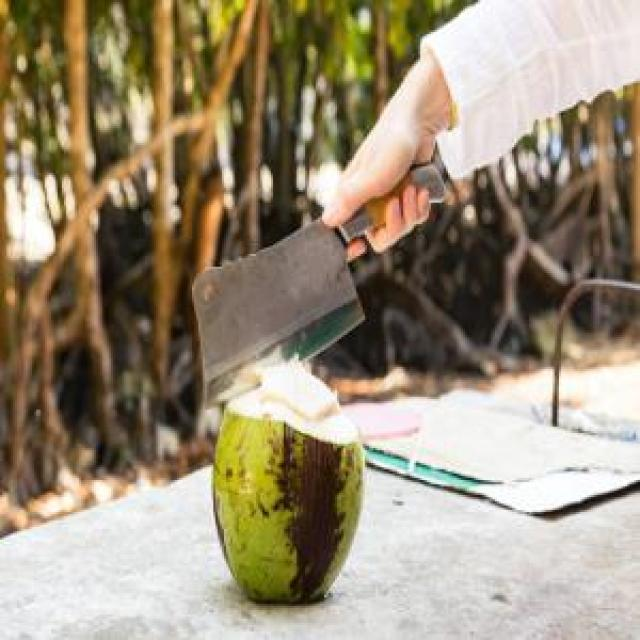knife: (190, 158, 447, 417)
